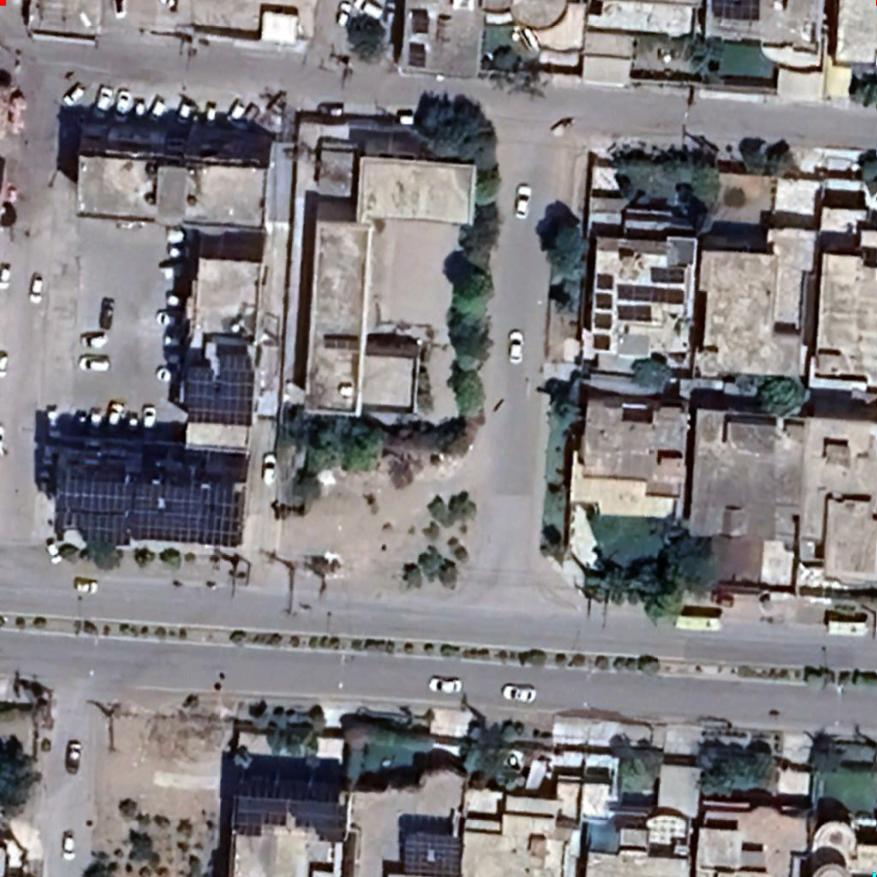Solarpanel: (53, 470, 252, 559), (592, 264, 693, 356), (229, 784, 352, 852), (178, 347, 258, 435), (402, 828, 464, 876)
